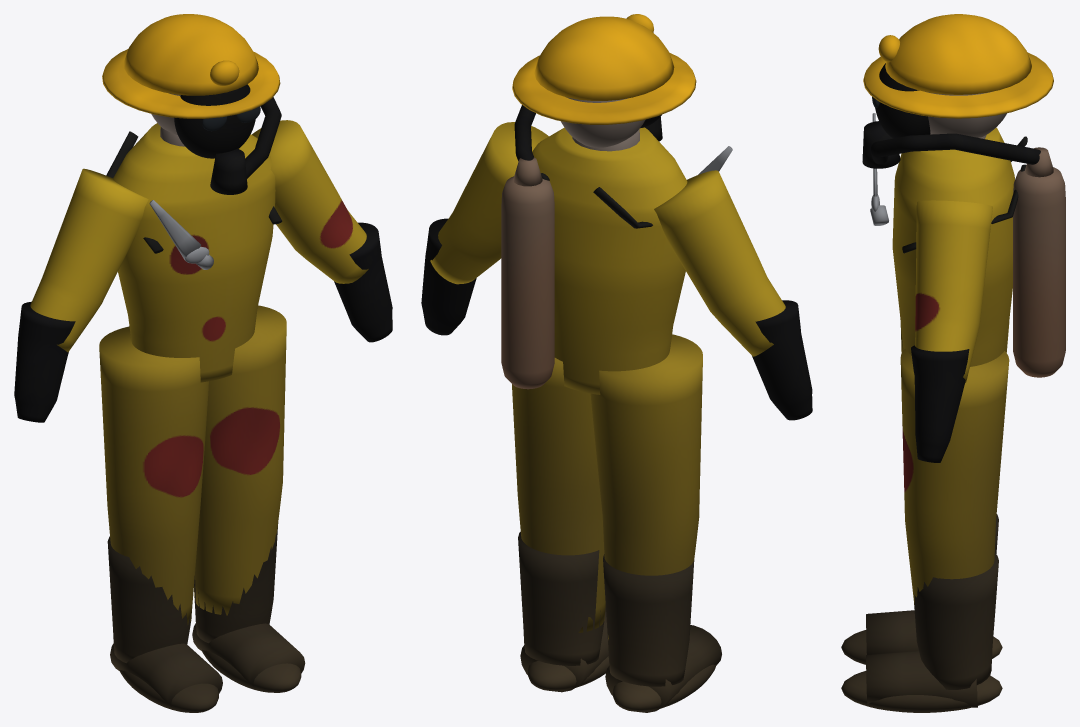
Rendered from character.glb.
3 views of the same model, side by side, from view 1: azimuth 30°, elevation 25°; view 2: azimuth 150°, elevation 25°; view 3: azimuth 270°, elevation 25° (orthographic). The views are drawn at different scales.
Visible parts, largest first — view 1: Suit, Boots, Helmet, Gloves, GasMask, Knife, Hose, Straps; view 2: Suit, Boots, Helmet, OxyTank, Gloves, Body_Head, Hose; view 3: Suit, Boots, Helmet, OxyTank, Gloves, Hose, GasMask, Body_Head, Knife, Straps.
Part boxes in pixels (x1,y1,x2,y2): Suit: [30, 120, 368, 624]; Boots: [107, 523, 305, 712]; Helmet: [102, 14, 280, 118]; Gloves: [14, 222, 392, 422]; GasMask: [174, 84, 255, 194]; Knife: [149, 200, 213, 269]; Hose: [245, 97, 281, 178]; Straps: [106, 131, 282, 253]; Suit: [430, 122, 785, 639]; Boots: [518, 532, 721, 712]; Helmet: [512, 14, 696, 124]; OxyTank: [501, 157, 554, 389]; Gloves: [421, 218, 812, 420]; Body_Head: [560, 97, 645, 151]; Hose: [514, 105, 535, 161]; Suit: [892, 127, 1014, 604]; Boots: [841, 514, 1002, 712]; Helmet: [863, 14, 1053, 118]; OxyTank: [1013, 147, 1065, 377]; Gloves: [911, 345, 969, 462]; Hose: [871, 133, 1040, 164]; GasMask: [862, 63, 930, 168]; Body_Head: [925, 91, 1006, 138]; Knife: [870, 113, 888, 225]; Straps: [902, 136, 1027, 253].
Size of the model in its own units: 0.6018 by 1 by 0.306.
1 material, 1 textured.
